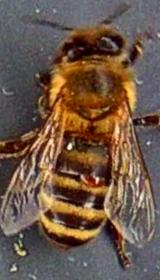varroa_mite: (72, 163, 113, 196)
